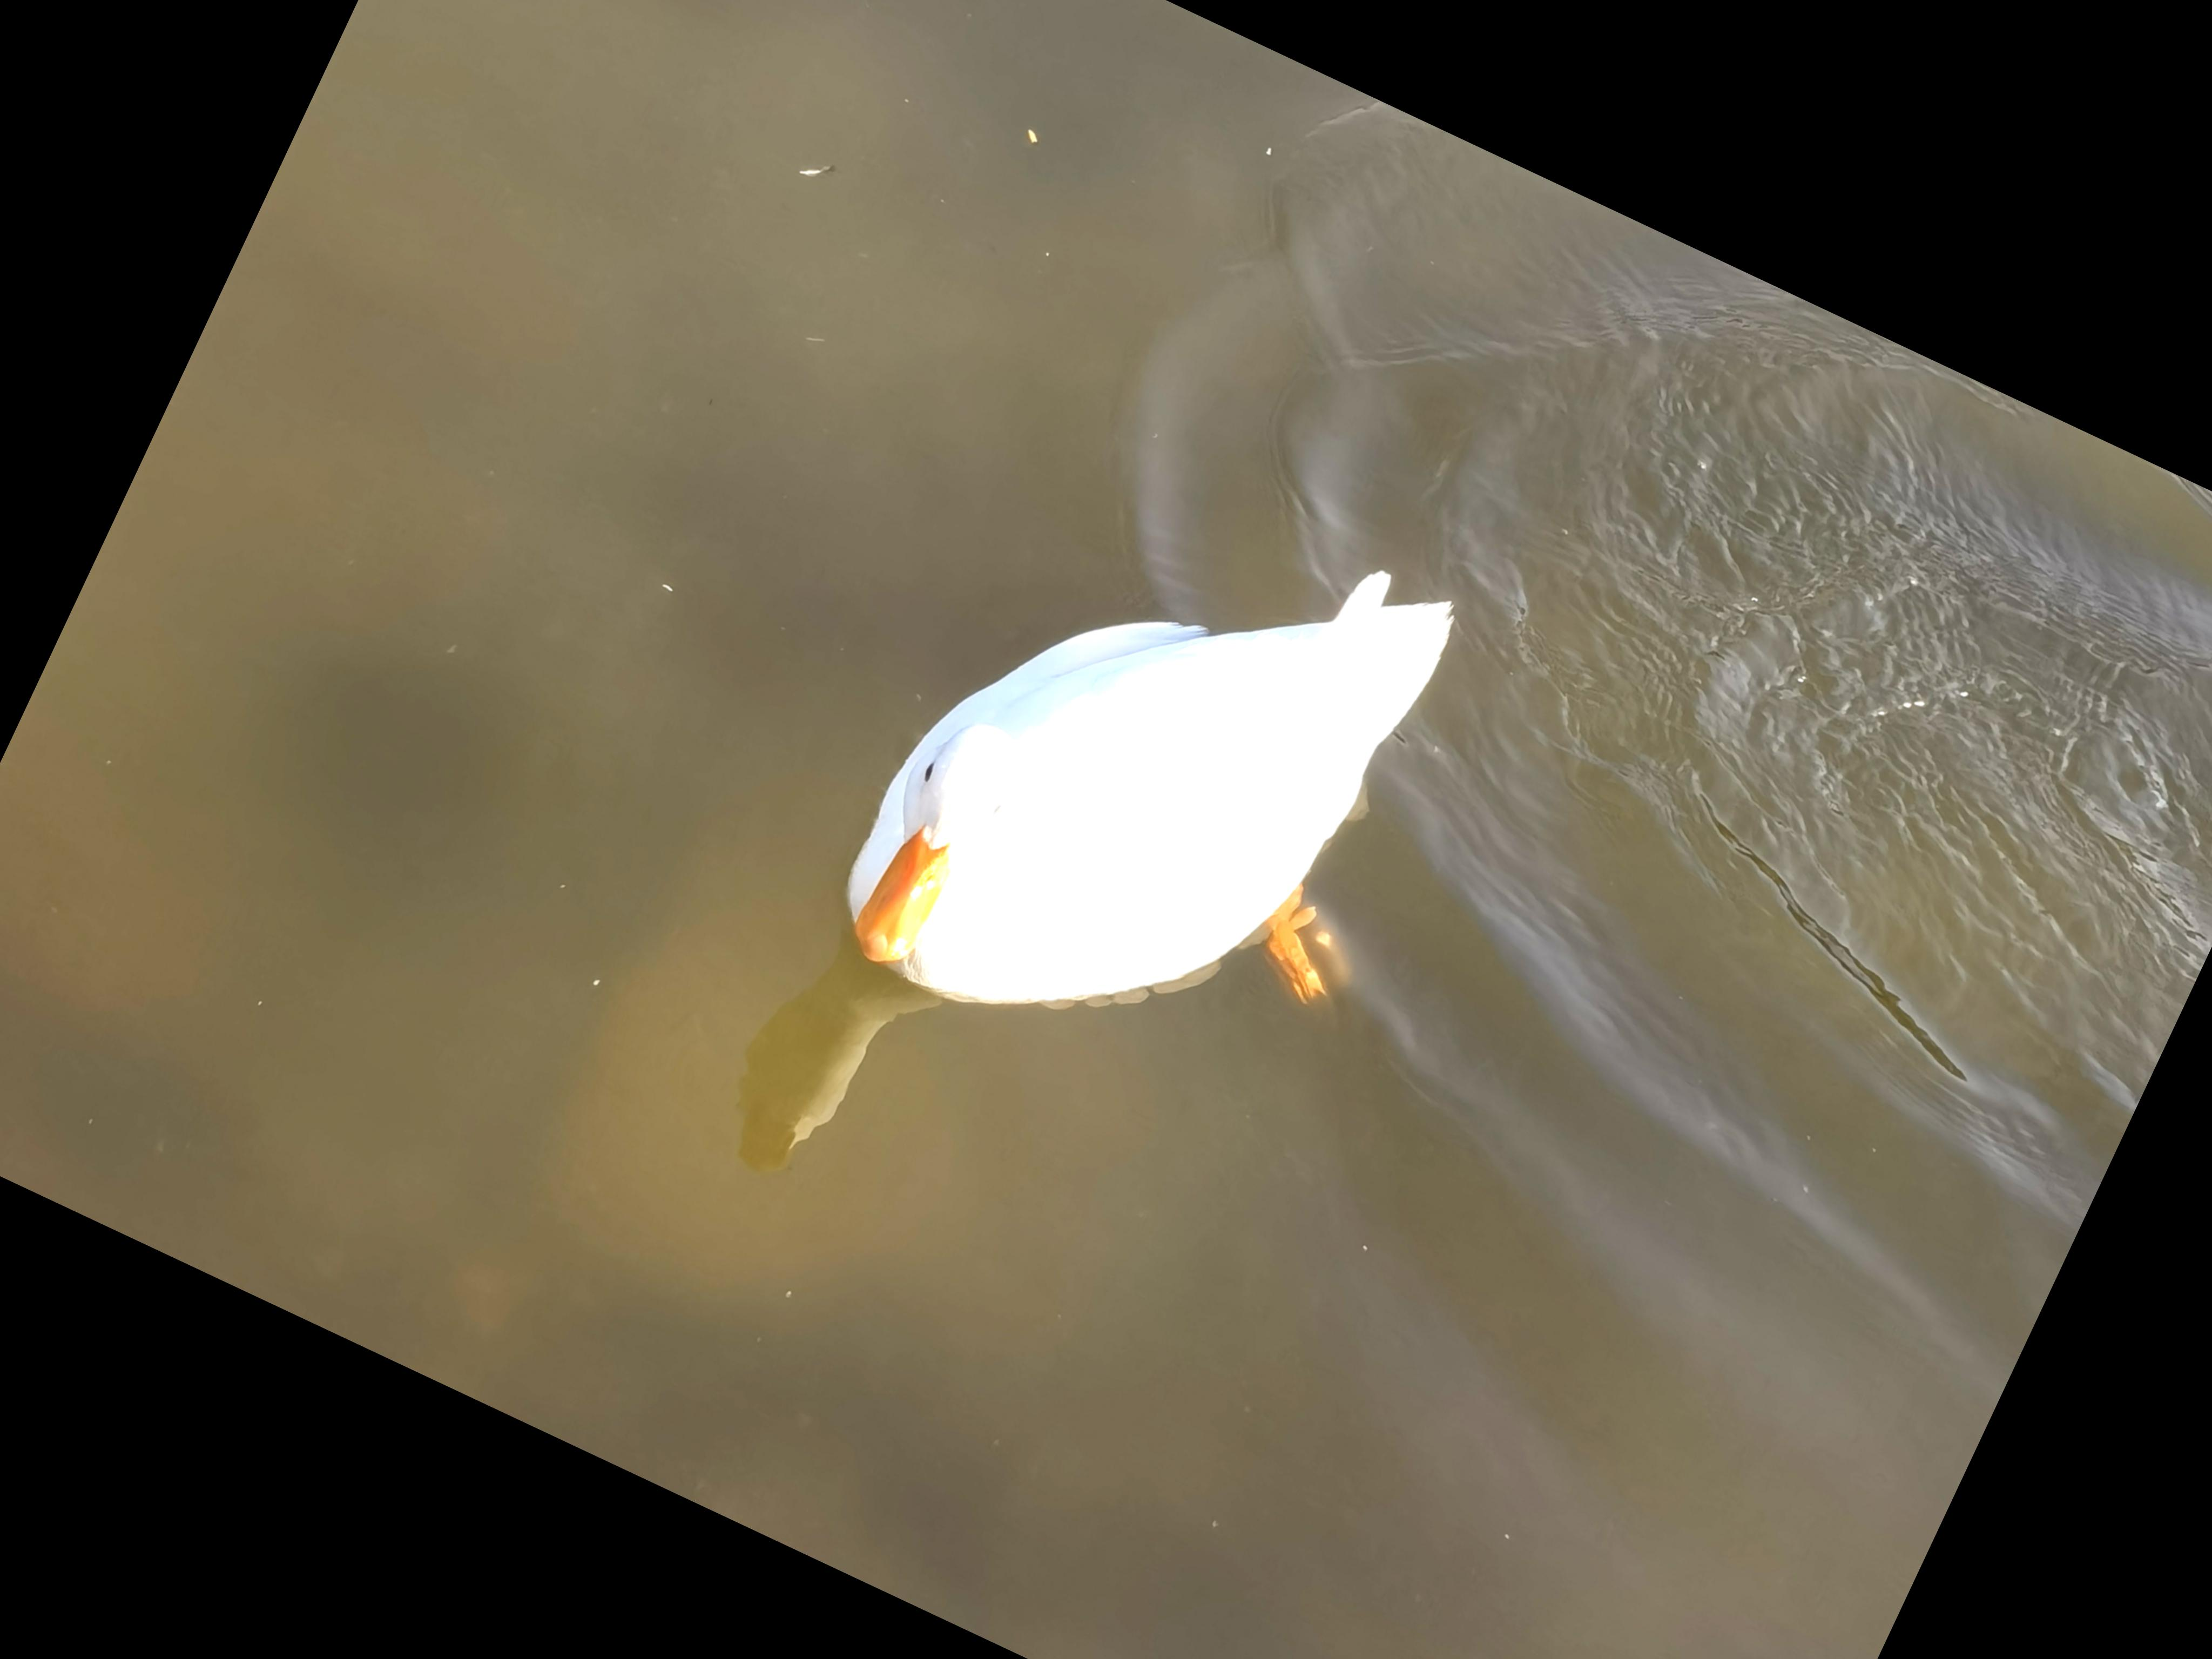duck: (782, 376, 1545, 1175)
